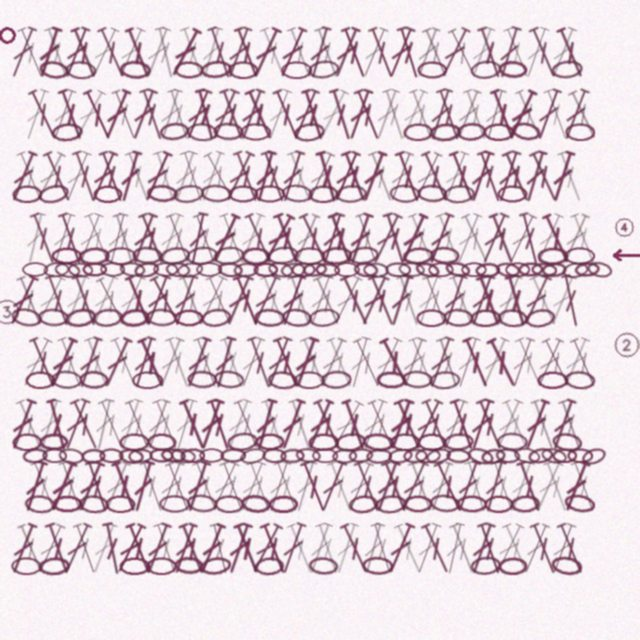chain: (37, 182, 71, 206), (10, 306, 43, 329), (64, 306, 97, 329), (563, 492, 596, 515), (550, 554, 583, 577), (510, 120, 542, 143), (293, 121, 326, 143), (172, 183, 205, 205), (334, 431, 367, 453), (199, 555, 232, 577), (38, 59, 70, 81), (159, 245, 191, 267), (524, 307, 556, 329), (551, 431, 583, 453), (307, 59, 340, 80), (347, 245, 380, 266), (226, 431, 259, 452), (200, 59, 232, 80), (470, 59, 502, 80), (551, 59, 583, 80), (281, 183, 313, 204), (186, 245, 218, 266), (213, 245, 245, 266), (267, 245, 299, 266), (200, 307, 232, 328), (281, 307, 313, 328), (308, 307, 340, 328), (213, 369, 245, 390), (186, 493, 218, 514), (429, 493, 461, 514), (159, 121, 190, 142), (92, 307, 123, 328), (119, 307, 150, 328), (240, 493, 271, 514), (470, 555, 501, 576), (65, 60, 97, 80), (51, 122, 83, 142), (186, 122, 218, 142), (429, 122, 461, 142), (335, 184, 367, 204), (443, 184, 475, 204), (78, 246, 110, 266), (402, 246, 434, 266), (429, 370, 461, 390), (564, 370, 596, 390), (362, 432, 394, 452), (24, 494, 56, 514), (375, 494, 407, 514), (38, 556, 70, 576), (466, 445, 495, 467), (497, 308, 528, 328), (267, 370, 298, 390), (443, 432, 474, 452), (78, 494, 109, 514), (348, 494, 379, 514), (510, 494, 541, 514), (254, 556, 285, 576), (308, 556, 339, 576), (580, 445, 608, 467), (119, 60, 151, 79), (146, 184, 178, 203), (200, 184, 232, 203), (389, 184, 421, 203), (213, 122, 244, 141), (456, 122, 487, 141), (132, 246, 163, 265), (321, 246, 352, 265), (38, 308, 69, 327), (146, 308, 177, 327), (254, 308, 285, 327), (443, 308, 474, 327), (51, 370, 82, 389), (321, 370, 352, 389), (402, 370, 433, 389), (497, 432, 528, 451), (362, 556, 393, 575), (498, 60, 528, 79), (417, 184, 447, 203), (430, 246, 460, 265), (79, 370, 109, 389), (187, 370, 217, 389), (174, 556, 204, 575), (239, 446, 267, 466), (540, 446, 568, 466), (281, 61, 312, 79), (240, 123, 271, 141), (483, 123, 514, 141), (254, 185, 285, 203), (308, 185, 339, 203), (497, 185, 528, 203), (51, 247, 82, 265), (105, 247, 136, 265), (294, 247, 325, 265), (537, 247, 568, 265), (564, 247, 595, 265), (416, 309, 447, 327), (470, 309, 501, 327), (132, 371, 163, 389), (294, 371, 325, 389), (537, 371, 568, 389), (119, 433, 150, 451), (308, 433, 339, 451), (105, 495, 136, 513), (159, 495, 190, 513), (456, 495, 487, 513), (11, 557, 42, 575), (119, 557, 150, 575), (146, 557, 177, 575), (174, 61, 204, 79), (228, 61, 258, 79), (417, 61, 447, 79), (403, 123, 433, 141), (565, 123, 595, 141), (12, 185, 42, 203), (93, 185, 123, 203), (228, 185, 258, 203), (241, 247, 271, 265), (414, 260, 441, 280), (174, 309, 204, 327), (25, 371, 55, 389), (376, 371, 406, 389), (12, 433, 42, 451), (39, 433, 69, 451), (147, 433, 177, 451), (255, 433, 285, 451), (390, 433, 420, 451), (417, 433, 447, 451), (425, 446, 452, 466), (52, 495, 82, 513), (214, 495, 244, 513), (268, 495, 298, 513), (403, 495, 433, 513), (484, 495, 514, 513), (498, 557, 528, 575), (513, 446, 541, 465), (133, 260, 160, 279), (267, 260, 294, 279), (444, 260, 471, 279), (586, 260, 613, 279), (527, 446, 554, 465), (176, 261, 204, 279), (54, 261, 81, 279), (562, 261, 589, 279), (58, 447, 85, 465), (387, 447, 414, 465), (480, 447, 507, 465), (495, 261, 521, 279), (118, 447, 144, 465), (170, 447, 196, 465), (43, 261, 70, 278), (119, 261, 146, 278), (398, 261, 425, 278), (165, 261, 191, 278), (217, 261, 243, 278), (302, 261, 328, 278), (353, 261, 379, 278), (574, 261, 600, 278), (22, 447, 48, 464), (160, 447, 186, 464), (295, 447, 321, 464), (348, 447, 374, 464), (495, 447, 521, 464), (233, 262, 259, 278), (280, 262, 306, 278), (363, 262, 389, 278), (531, 262, 557, 278), (541, 262, 567, 278), (366, 448, 392, 464), (68, 262, 93, 278), (315, 262, 340, 278), (475, 262, 500, 278), (81, 448, 106, 464), (128, 448, 153, 464), (280, 448, 305, 464), (332, 448, 357, 464), (403, 448, 428, 464), (446, 448, 471, 464), (22, 262, 48, 277), (196, 262, 222, 277), (334, 262, 360, 277), (385, 262, 411, 277), (428, 262, 454, 277), (461, 262, 487, 277), (220, 448, 246, 463), (312, 448, 338, 463), (415, 448, 441, 463), (567, 448, 593, 463), (82, 262, 107, 277), (100, 262, 125, 277), (153, 262, 178, 277), (253, 262, 278, 277), (291, 262, 316, 277), (505, 262, 530, 277), (518, 262, 543, 277), (42, 448, 67, 463), (99, 448, 124, 463), (149, 448, 174, 463), (180, 448, 205, 463), (199, 448, 224, 463), (262, 448, 287, 463), (552, 448, 577, 463)
double: (69, 87, 110, 142), (199, 149, 240, 204), (258, 211, 299, 266), (326, 398, 367, 452), (165, 25, 205, 80), (313, 87, 353, 142), (30, 149, 70, 204), (146, 273, 186, 328), (16, 335, 56, 390), (375, 335, 415, 390), (246, 521, 286, 576), (435, 25, 474, 80), (24, 87, 63, 142), (564, 87, 603, 142), (367, 211, 406, 266), (30, 273, 69, 328), (192, 273, 231, 328), (327, 273, 366, 328), (483, 335, 522, 390), (537, 335, 576, 390), (408, 397, 447, 452), (111, 521, 150, 576), (489, 521, 528, 576), (92, 274, 131, 328), (85, 25, 123, 80), (93, 25, 131, 80), (247, 25, 285, 80), (444, 25, 482, 80), (79, 87, 117, 142), (503, 87, 541, 142), (39, 149, 77, 204), (220, 149, 258, 204), (301, 149, 339, 204), (525, 149, 563, 204), (206, 211, 244, 266), (295, 211, 333, 266), (457, 211, 495, 266), (503, 211, 541, 266), (538, 211, 576, 266), (4, 273, 42, 328), (336, 273, 374, 328), (355, 273, 393, 328), (517, 273, 555, 328), (525, 273, 563, 328), (98, 335, 136, 390), (368, 335, 406, 390), (530, 335, 568, 390), (66, 397, 104, 452), (309, 397, 347, 452), (430, 459, 468, 514), (31, 521, 69, 576), (58, 521, 96, 576), (336, 521, 374, 576), (390, 521, 428, 576), (417, 521, 455, 576), (112, 25, 149, 80), (274, 25, 311, 80), (525, 25, 562, 80), (206, 87, 243, 142), (241, 87, 278, 142), (287, 87, 324, 142), (395, 87, 432, 142), (511, 87, 548, 142), (12, 149, 49, 204), (85, 149, 122, 204), (139, 149, 176, 204), (328, 149, 365, 204), (409, 149, 446, 204), (417, 149, 454, 204), (498, 149, 535, 204), (241, 211, 278, 266), (395, 211, 432, 266), (476, 211, 513, 266), (530, 211, 567, 266), (557, 211, 594, 266), (12, 273, 49, 328), (112, 273, 149, 328), (220, 273, 257, 328), (247, 273, 284, 328), (309, 273, 346, 328), (544, 273, 581, 328), (25, 335, 62, 390), (106, 335, 143, 390), (314, 335, 351, 390), (322, 335, 359, 390), (349, 335, 386, 390), (476, 335, 513, 390), (511, 335, 548, 390), (557, 335, 594, 390), (12, 397, 49, 452), (363, 397, 400, 452), (390, 397, 427, 452), (490, 397, 527, 452), (498, 397, 535, 452), (98, 459, 135, 514), (206, 459, 243, 514), (341, 459, 378, 514), (395, 459, 432, 514), (530, 459, 567, 514), (382, 521, 419, 576), (498, 521, 535, 576), (5, 25, 41, 80), (13, 25, 49, 80), (256, 25, 292, 80), (356, 25, 392, 80), (364, 25, 400, 80), (383, 25, 419, 80), (418, 25, 454, 80), (499, 25, 535, 80), (545, 25, 581, 80), (553, 25, 589, 80), (99, 87, 135, 142), (180, 87, 216, 142), (269, 87, 305, 142), (350, 87, 386, 142), (450, 87, 486, 142), (5, 149, 41, 204), (59, 149, 95, 204), (437, 149, 473, 204), (80, 211, 116, 266), (134, 211, 170, 266), (269, 211, 305, 266), (288, 211, 324, 266), (404, 211, 440, 266), (431, 211, 467, 266), (450, 211, 486, 266), (566, 211, 602, 266), (86, 273, 122, 328), (202, 273, 238, 328), (229, 273, 265, 328), (256, 273, 292, 328), (364, 273, 400, 328), (491, 273, 527, 328), (45, 335, 81, 390), (134, 335, 170, 390), (269, 335, 305, 390), (296, 335, 332, 390), (404, 335, 440, 390), (458, 335, 494, 390), (566, 335, 602, 390), (94, 397, 130, 452), (148, 397, 184, 452), (175, 397, 211, 452), (229, 397, 265, 452), (302, 397, 338, 452), (418, 397, 454, 452), (472, 397, 508, 452), (26, 459, 62, 514), (45, 459, 81, 514), (72, 459, 108, 514), (188, 459, 224, 514), (234, 459, 270, 514), (296, 459, 332, 514), (315, 459, 351, 514), (323, 459, 359, 514), (350, 459, 386, 514), (377, 459, 413, 514), (558, 459, 594, 514), (5, 521, 41, 576), (13, 521, 49, 576), (86, 521, 122, 576), (229, 521, 265, 576), (256, 521, 292, 576), (283, 521, 319, 576), (445, 521, 481, 576), (518, 521, 554, 576), (526, 521, 562, 576), (553, 521, 589, 576), (40, 25, 75, 80), (59, 25, 94, 80), (67, 25, 102, 80), (121, 25, 156, 80), (140, 25, 175, 80), (221, 25, 256, 80), (283, 25, 318, 80), (310, 25, 345, 80), (329, 25, 364, 80), (337, 25, 372, 80), (410, 25, 445, 80), (107, 87, 142, 142), (126, 87, 161, 142), (215, 87, 250, 142), (234, 87, 269, 142), (261, 87, 296, 142), (531, 87, 566, 142), (539, 87, 574, 142), (558, 87, 593, 142), (121, 149, 156, 204), (229, 149, 264, 204), (283, 149, 318, 204), (337, 149, 372, 204), (356, 149, 391, 204), (364, 149, 399, 204), (383, 149, 418, 204), (391, 149, 426, 204), (445, 149, 480, 204), (553, 149, 588, 204), (26, 211, 61, 266), (72, 211, 107, 266), (126, 211, 161, 266), (153, 211, 188, 266), (161, 211, 196, 266), (215, 211, 250, 266), (234, 211, 269, 266), (423, 211, 458, 266), (485, 211, 520, 266), (59, 273, 94, 328), (121, 273, 156, 328), (140, 273, 175, 328), (175, 273, 210, 328), (283, 273, 318, 328), (418, 273, 453, 328), (445, 273, 480, 328), (472, 273, 507, 328), (53, 335, 88, 390), (80, 335, 115, 390), (153, 335, 188, 390), (161, 335, 196, 390), (261, 335, 296, 390), (396, 335, 431, 390), (423, 335, 458, 390), (5, 397, 40, 452), (59, 397, 94, 452), (121, 397, 156, 452), (221, 397, 256, 452), (275, 397, 310, 452), (356, 397, 391, 452), (526, 397, 561, 452), (107, 459, 142, 514), (153, 459, 188, 514), (161, 459, 196, 514), (215, 459, 250, 514), (242, 459, 277, 514), (269, 459, 304, 514), (404, 459, 439, 514), (504, 459, 539, 514), (512, 459, 547, 514), (539, 459, 574, 514), (566, 459, 601, 514), (140, 521, 175, 576), (175, 521, 210, 576), (194, 521, 229, 576), (410, 521, 445, 576), (545, 521, 580, 576), (176, 25, 210, 80), (203, 25, 237, 80), (230, 25, 264, 80), (465, 25, 499, 80), (473, 25, 507, 80), (519, 25, 553, 80), (19, 87, 53, 142), (46, 87, 80, 142), (54, 87, 88, 142), (135, 87, 169, 142), (370, 87, 404, 142), (405, 87, 439, 142), (432, 87, 466, 142), (459, 87, 493, 142), (486, 87, 520, 142), (68, 149, 102, 204), (95, 149, 129, 204), (168, 149, 202, 204), (195, 149, 229, 204), (257, 149, 291, 204), (473, 149, 507, 204), (54, 211, 88, 266), (324, 211, 358, 266), (343, 211, 377, 266), (41, 273, 75, 328), (68, 273, 102, 328), (168, 273, 202, 328), (276, 273, 310, 328), (303, 273, 337, 328), (392, 273, 426, 328), (411, 273, 445, 328), (465, 273, 499, 328), (181, 335, 215, 390), (189, 335, 223, 390), (216, 335, 250, 390), (235, 335, 269, 390), (243, 335, 277, 390), (289, 335, 323, 390), (505, 335, 539, 390), (141, 397, 175, 452), (257, 397, 291, 452), (284, 397, 318, 452), (384, 397, 418, 452), (438, 397, 472, 452), (446, 397, 480, 452), (519, 397, 553, 452), (546, 397, 580, 452), (554, 397, 588, 452), (54, 459, 88, 514), (135, 459, 169, 514), (370, 459, 404, 514), (451, 459, 485, 514), (486, 459, 520, 514), (41, 521, 75, 576), (68, 521, 102, 576), (122, 521, 156, 576), (149, 521, 183, 576), (222, 521, 256, 576), (276, 521, 310, 576), (303, 521, 337, 576), (311, 521, 345, 576), (465, 521, 499, 576), (473, 521, 507, 576), (33, 25, 66, 80), (154, 87, 187, 142), (297, 87, 330, 142), (343, 87, 376, 142), (378, 87, 411, 142), (424, 87, 457, 142), (149, 149, 182, 204), (176, 149, 209, 204), (276, 149, 309, 204), (465, 149, 498, 204), (492, 149, 525, 204), (546, 149, 579, 204), (46, 211, 79, 266), (108, 211, 141, 266), (189, 211, 222, 266), (316, 211, 349, 266), (351, 211, 384, 266), (438, 273, 471, 328), (73, 335, 106, 390), (432, 335, 465, 390), (451, 335, 484, 390), (33, 397, 66, 452), (114, 397, 147, 452), (195, 397, 228, 452), (203, 397, 236, 452), (338, 397, 371, 452), (465, 397, 498, 452), (19, 459, 52, 514), (81, 459, 114, 514), (181, 459, 214, 514), (262, 459, 295, 514), (424, 459, 457, 514), (168, 521, 201, 576), (330, 521, 363, 576), (393, 25, 425, 80), (493, 25, 525, 80), (163, 87, 195, 142), (325, 87, 357, 142), (379, 211, 411, 266), (385, 273, 417, 328), (128, 335, 160, 390), (169, 397, 201, 452), (460, 459, 492, 514), (366, 521, 398, 576), (196, 25, 227, 80), (304, 25, 335, 80), (479, 87, 510, 142), (115, 149, 146, 204), (250, 149, 281, 204), (312, 149, 343, 204), (520, 149, 551, 204), (501, 273, 532, 328), (209, 335, 240, 390), (344, 335, 375, 390), (42, 397, 73, 452), (250, 397, 281, 452), (128, 459, 159, 514), (290, 459, 321, 514), (479, 459, 510, 514), (358, 521, 389, 576), (102, 211, 132, 266), (515, 211, 545, 266), (151, 25, 180, 80), (191, 87, 220, 142), (21, 211, 50, 266), (440, 521, 469, 576), (184, 211, 212, 266), (557, 273, 585, 328), (90, 397, 118, 452), (98, 521, 126, 576), (206, 521, 234, 576)
noise: (612, 330, 640, 359), (0, 296, 22, 327), (613, 216, 635, 238), (0, 25, 18, 46), (610, 249, 640, 261)
